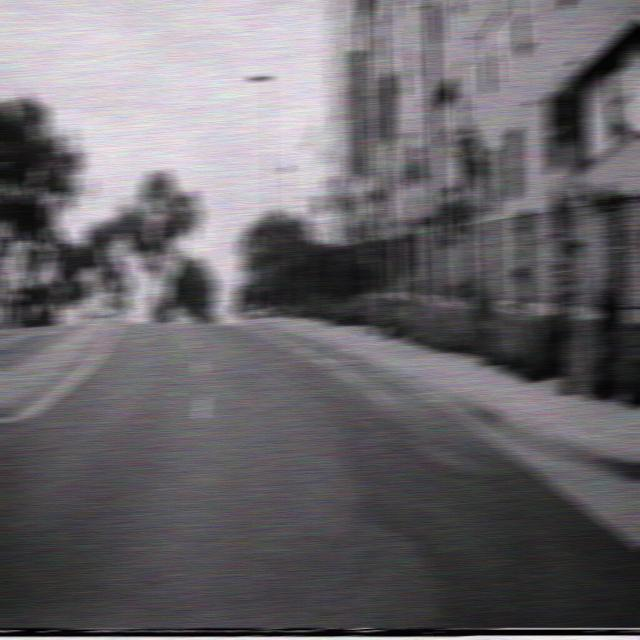stop_sign: (239, 266, 254, 286)
